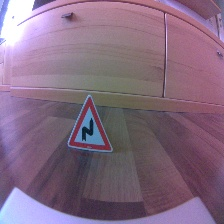vorsicht: (67, 94, 114, 152)
